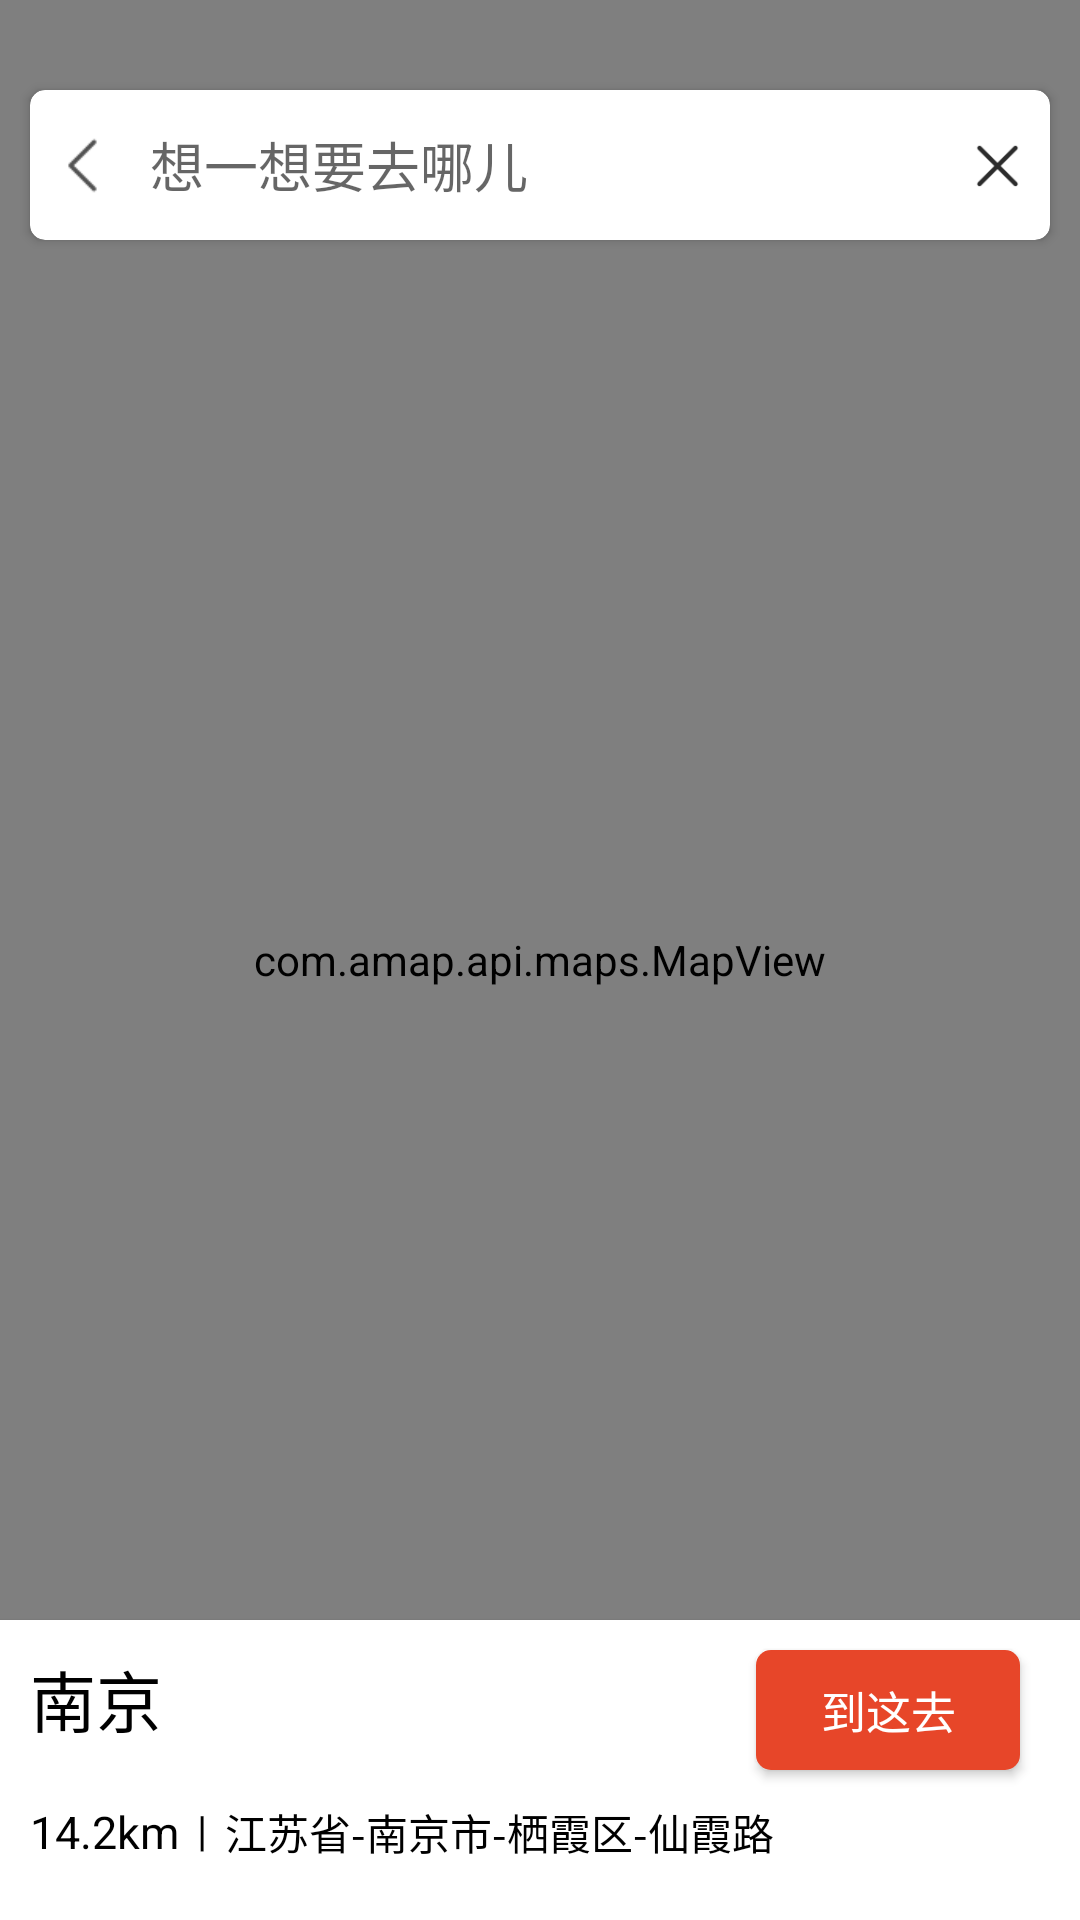

Locate icon controls on the screen. Image size 1080w x 1920h, boxes as (x1, y1, x2, y2).
back: (68, 139, 97, 192)
close: (977, 145, 1018, 187)
